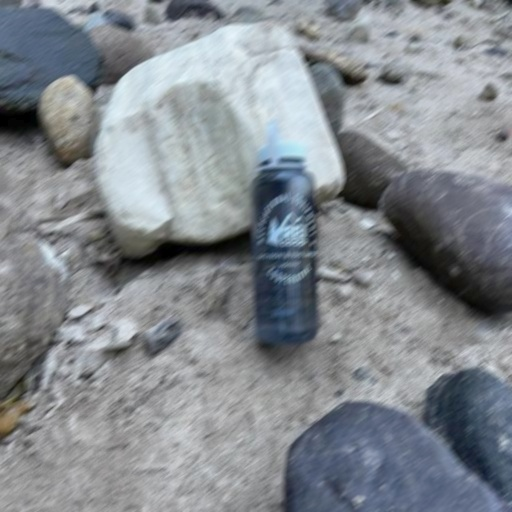bottle: (250, 119, 320, 347)
